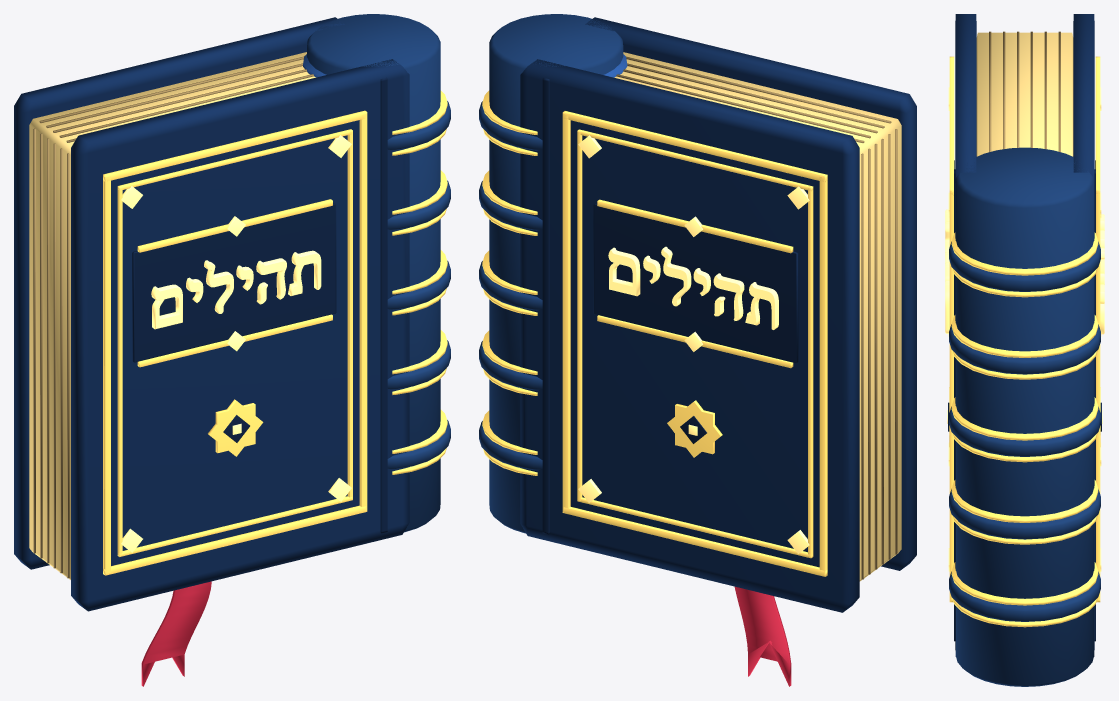
Rendered from tehilim_book.glb.
3 views of the same model, side by side, from view 1: azimuth 30°, elevation 25°; view 2: azimuth 150°, elevation 25°; view 3: azimuth 270°, elevation 25° (orthographic). The views are drawn at different scales.
Visible parts, largest first — view 1: TehilimBook; view 2: TehilimBook; view 3: TehilimBook.
Boxes of the visible parts, x1=… form: TehilimBook: x1=14, y1=14, x2=450, y2=686; TehilimBook: x1=479, y1=14, x2=916, y2=686; TehilimBook: x1=945, y1=14, x2=1104, y2=686.
Bounding box in the file's own units: 1.65 × 2.36 × 0.56.
